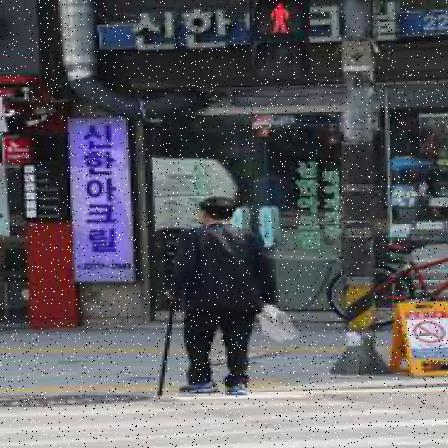silver: (157, 198, 280, 400)
